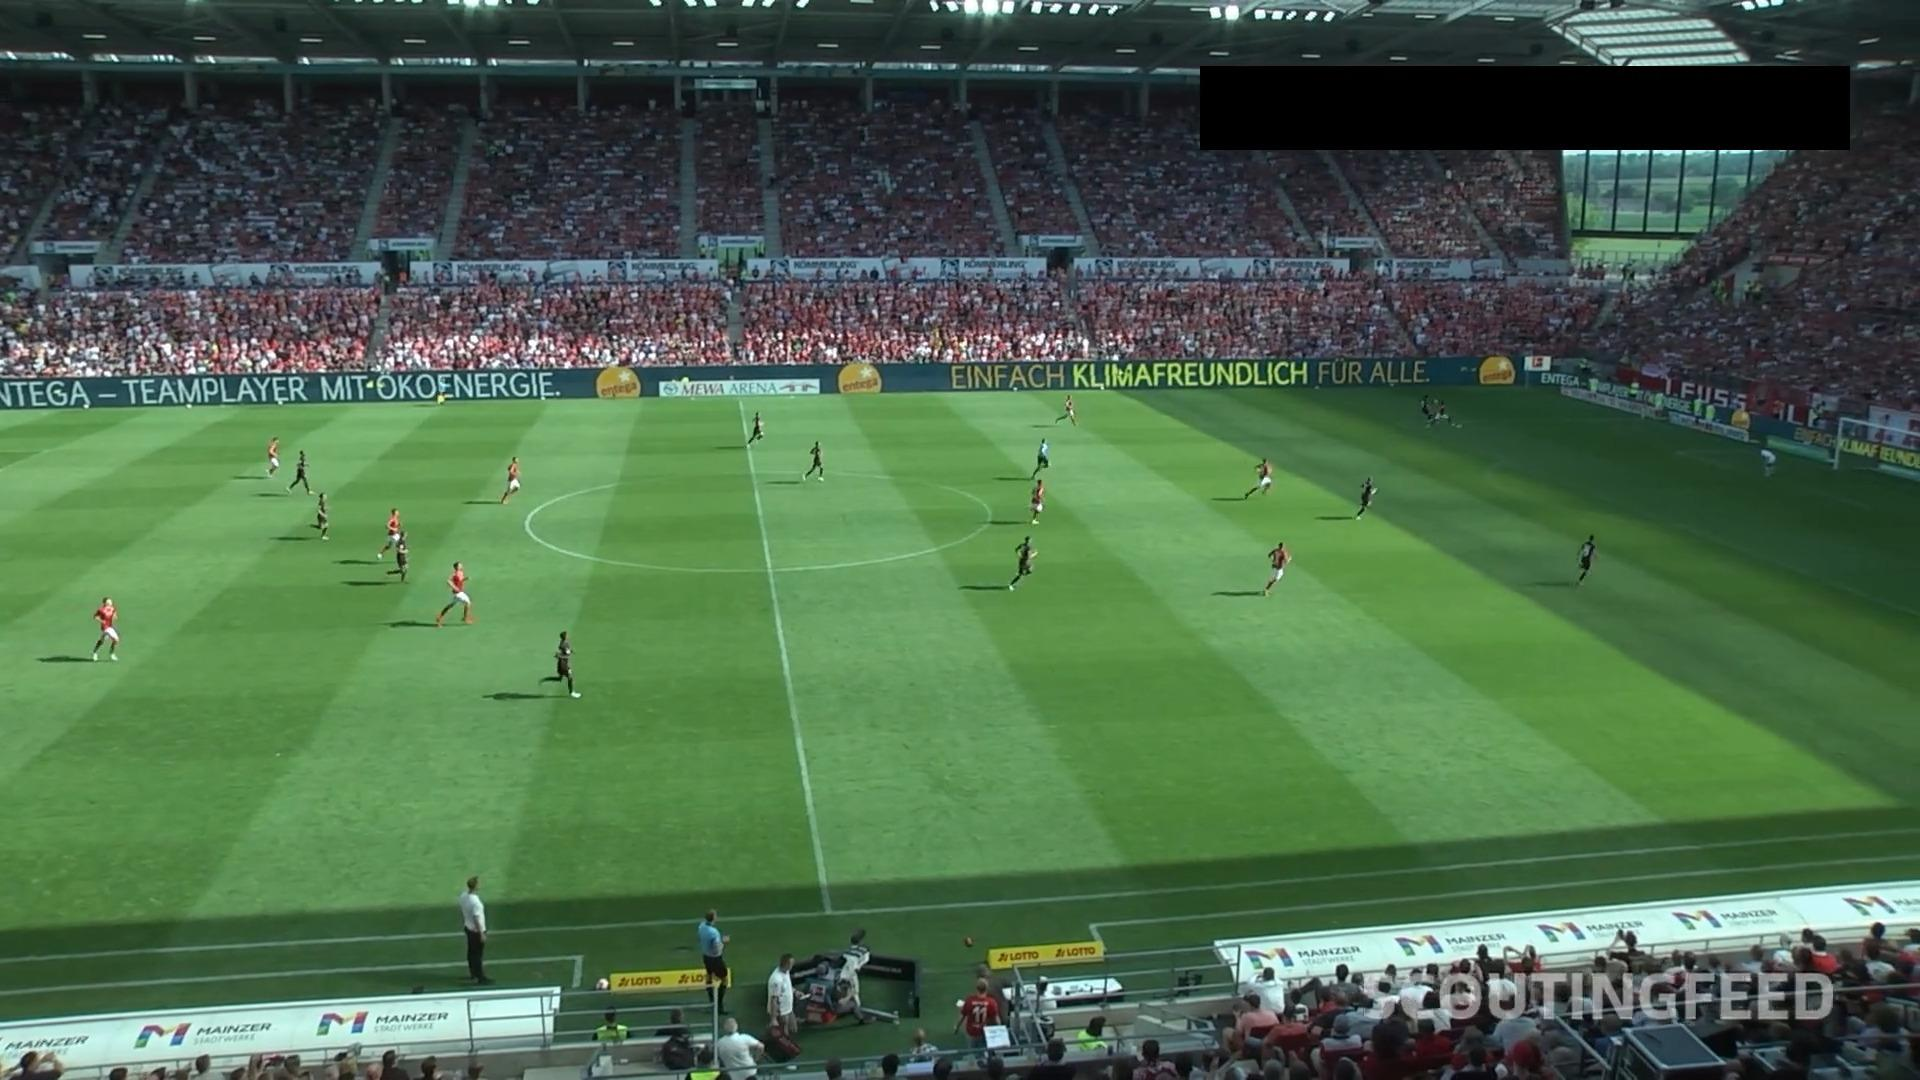ball: (1456, 422, 1462, 430)
